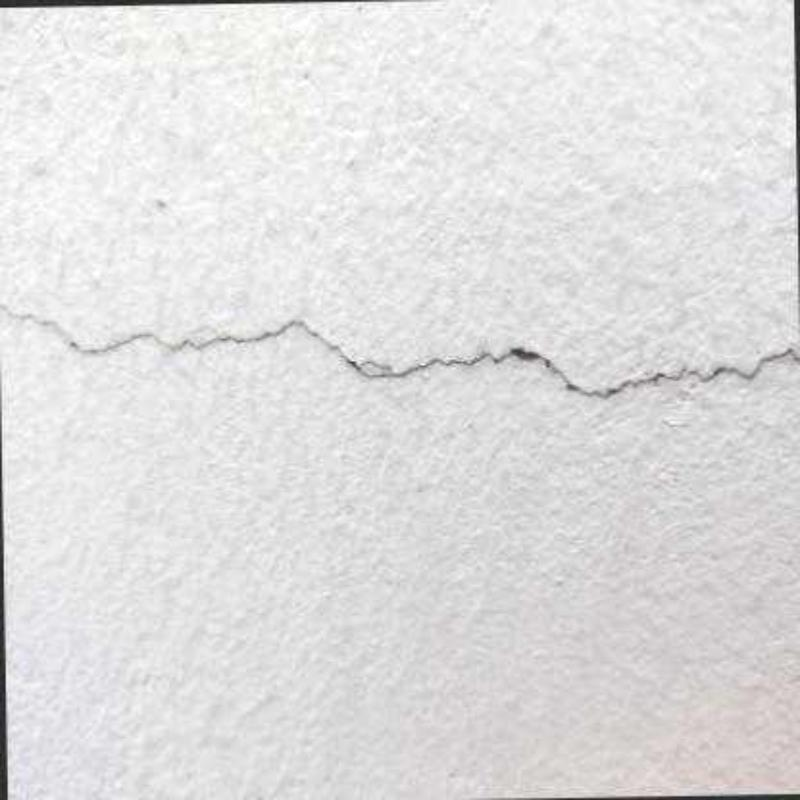pothole: (0, 305, 799, 397)
